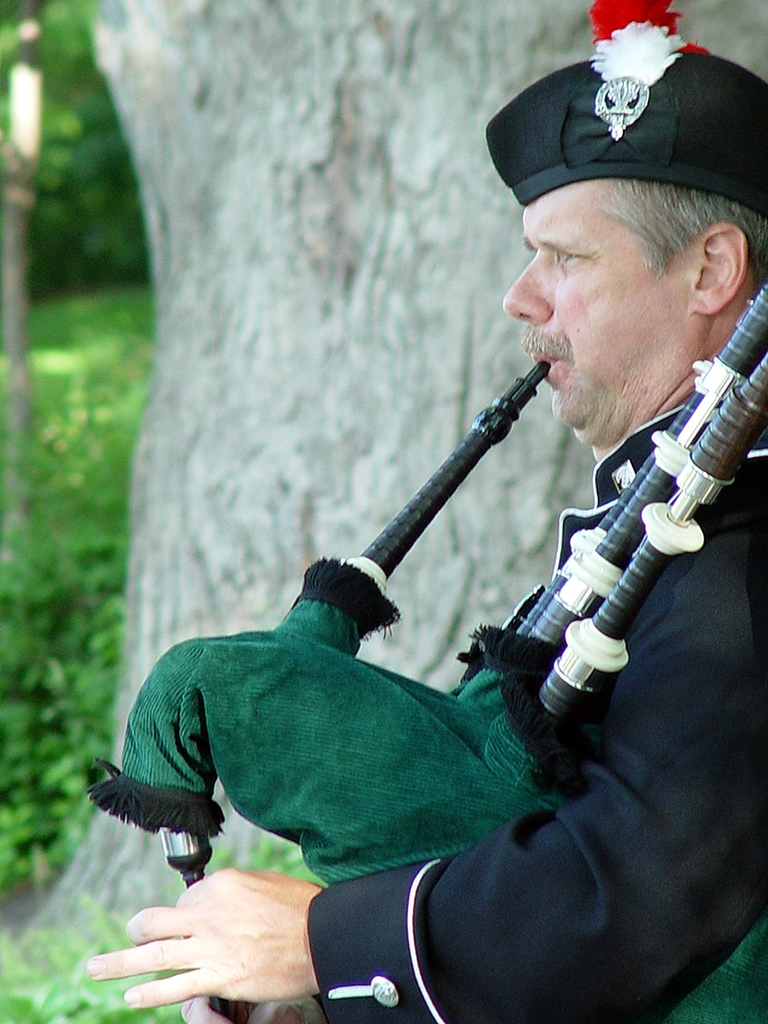Person: (85, 0, 768, 1024)
